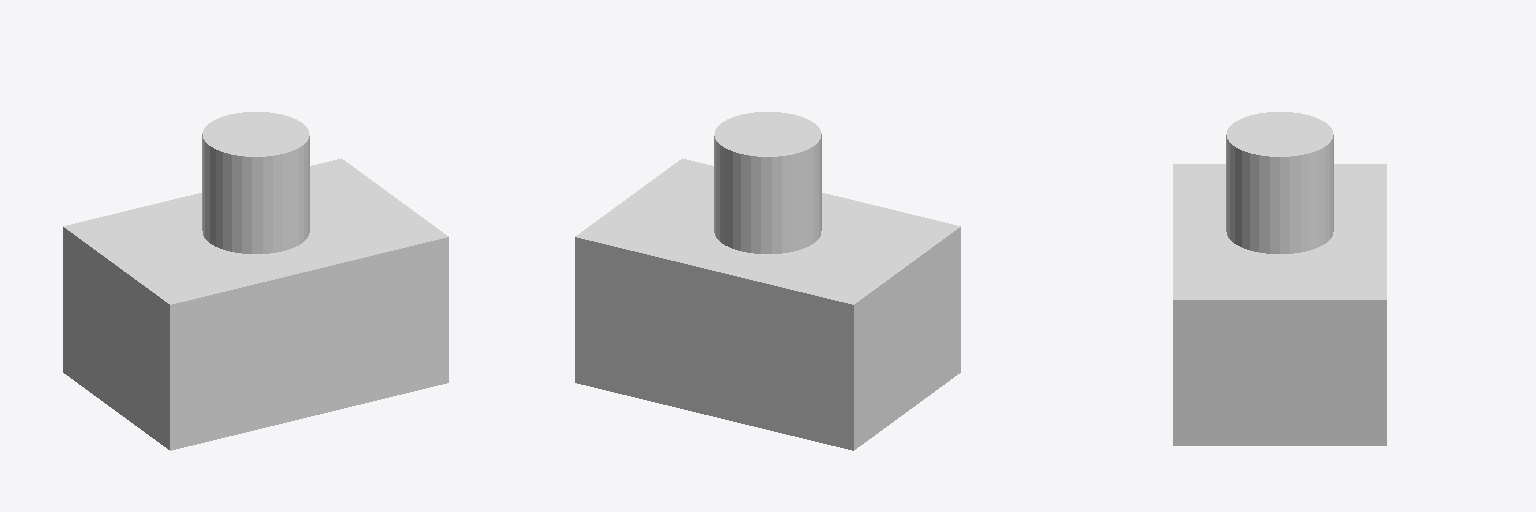
3 views of the same model, side by side, from view 1: azimuth 30°, elevation 25°; view 2: azimuth 150°, elevation 25°; view 3: azimuth 270°, elevation 25° (orthographic).
Parts seen in each view (by area): view 1: Cube, Cylinder; view 2: Cube, Cylinder; view 3: Cube, Cylinder.
Boxes of the visible parts, x1=… form: Cube: x1=63, y1=158, x2=448, y2=450; Cylinder: x1=202, y1=112, x2=309, y2=253; Cube: x1=575, y1=158, x2=960, y2=450; Cylinder: x1=714, y1=112, x2=821, y2=253; Cube: x1=1173, y1=164, x2=1386, y2=445; Cylinder: x1=1226, y1=112, x2=1333, y2=253.
Bounding box in the file's own units: 3 × 2.5 × 2.
Materials: 1 (1 with a texture image).